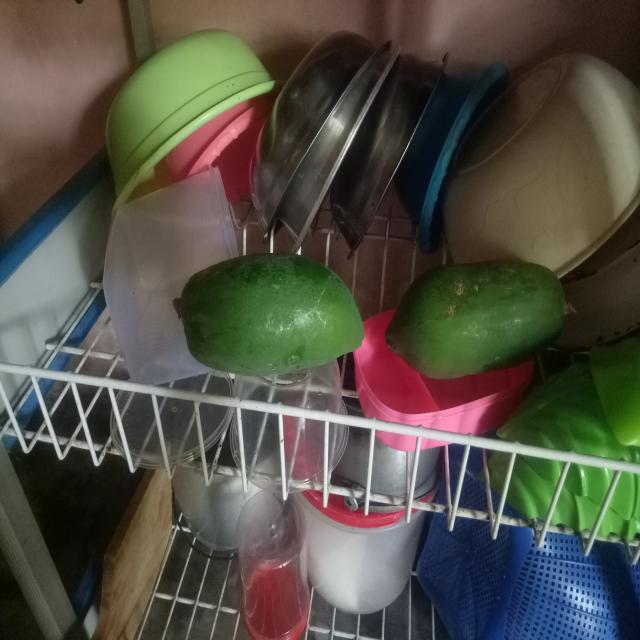Pepaya unrippen: (183, 238, 359, 381), (386, 256, 568, 380)
